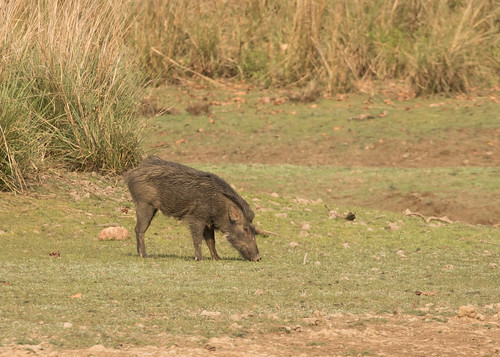wild boar: (115, 151, 270, 288)
